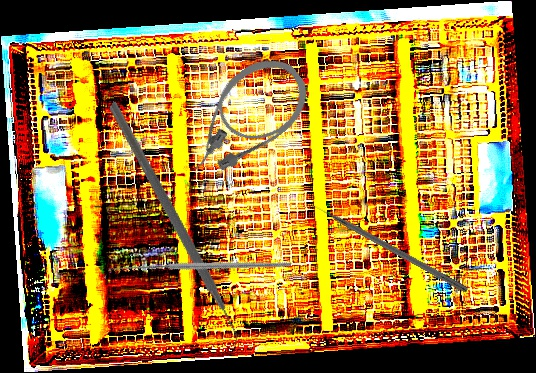Cannula: (165, 44, 321, 190)
Chopper: (30, 101, 311, 358)
Hook Surgical: (104, 186, 292, 355), (308, 198, 470, 294)
